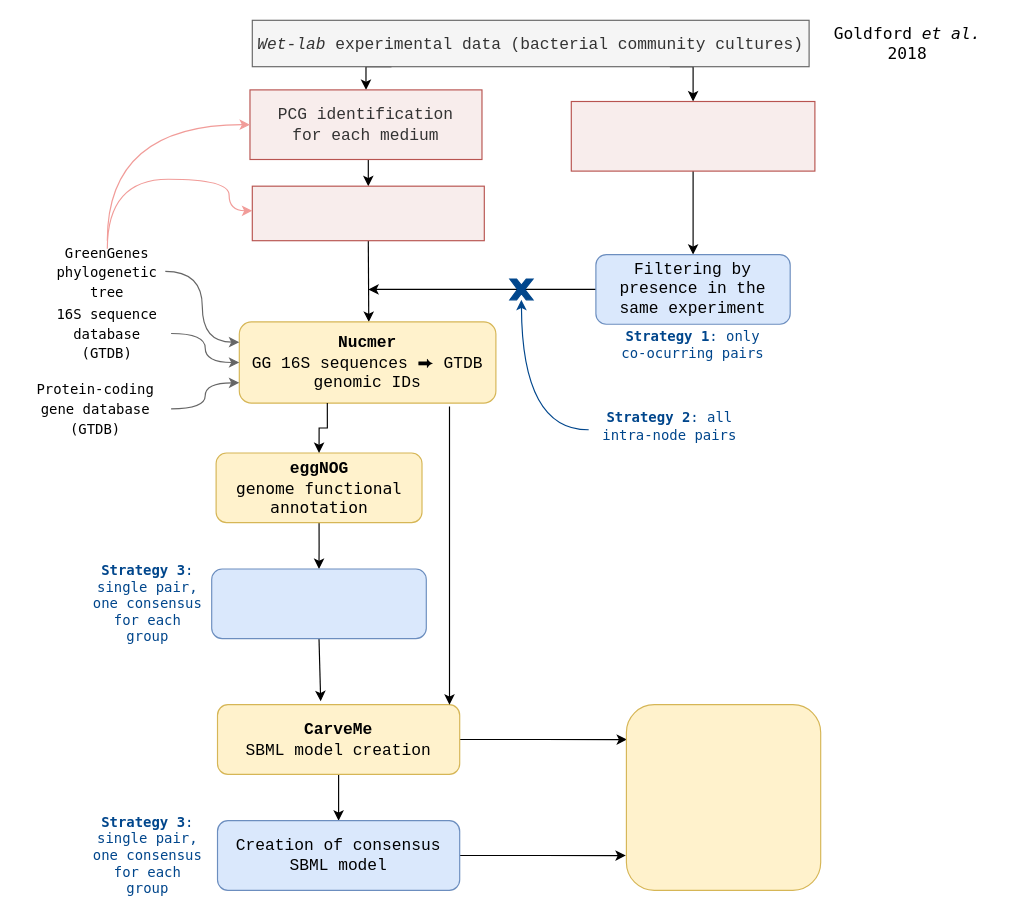
This 1014x922 diagram has some shape labels left out. The shapes that lost their labels are listed below. From the top down, each one's centre as x and y in pixels, then its label:
At (x=692, y=135): "Generating abundance table with BIOM".
At (x=367, y=213): "Selection of OTUs".
At (x=318, y=603): "Creation of consensus annotations".
At (x=723, y=797): "Smetana, ReFramed model analysis".
